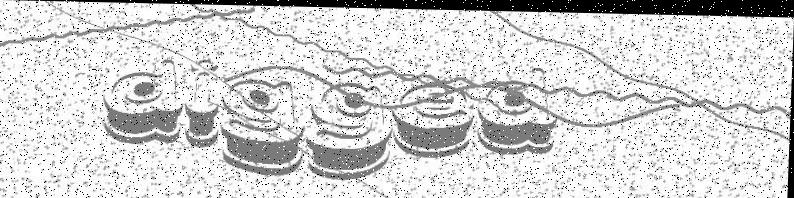d: (474, 60, 561, 159), (98, 55, 187, 150)
e: (390, 69, 479, 158)
g: (304, 77, 392, 178), (221, 75, 308, 174)
i: (184, 53, 224, 149)
